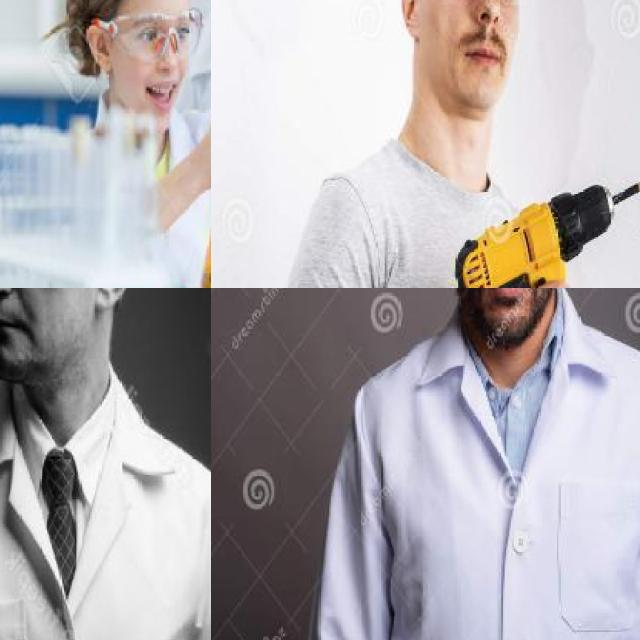No_Ear-Protection: (395, 0, 426, 39), (91, 288, 147, 308)
face_nomask: (437, 0, 522, 80), (126, 11, 190, 105), (0, 288, 73, 357)
glasses: (94, 1, 204, 60)
person: (322, 288, 640, 640), (290, 0, 609, 288), (0, 288, 211, 640)
